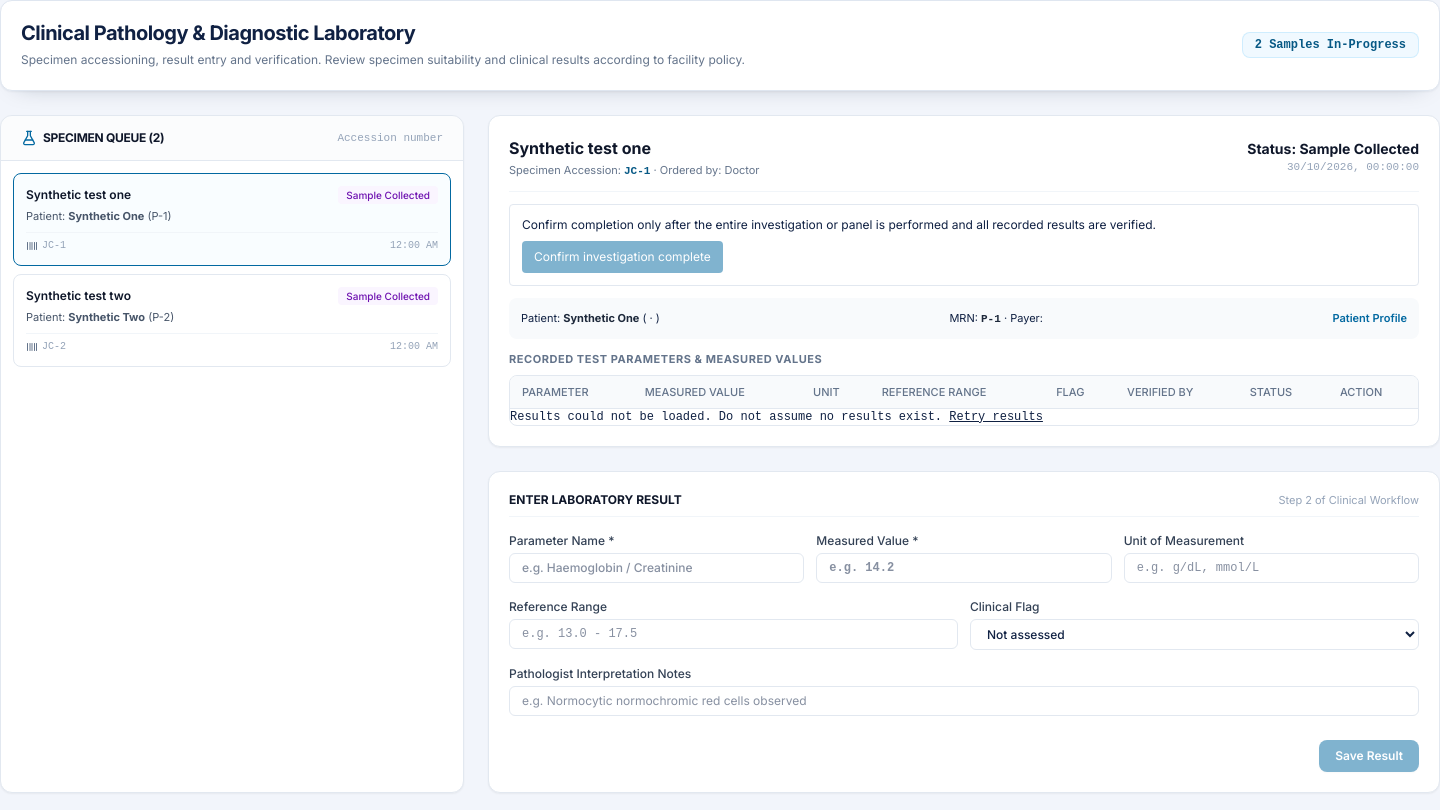
Laboratory worklist and result isolation › shows result loading failure and prevents entry until results can be reviewed
Expected: the message shows "Do not assume no results exist", [510,410,942,424]
Expected: the button "Save Result" is disabled, [1319,740,1419,772]
Click the button "Retry results": (996, 416) [949,408,1043,424]
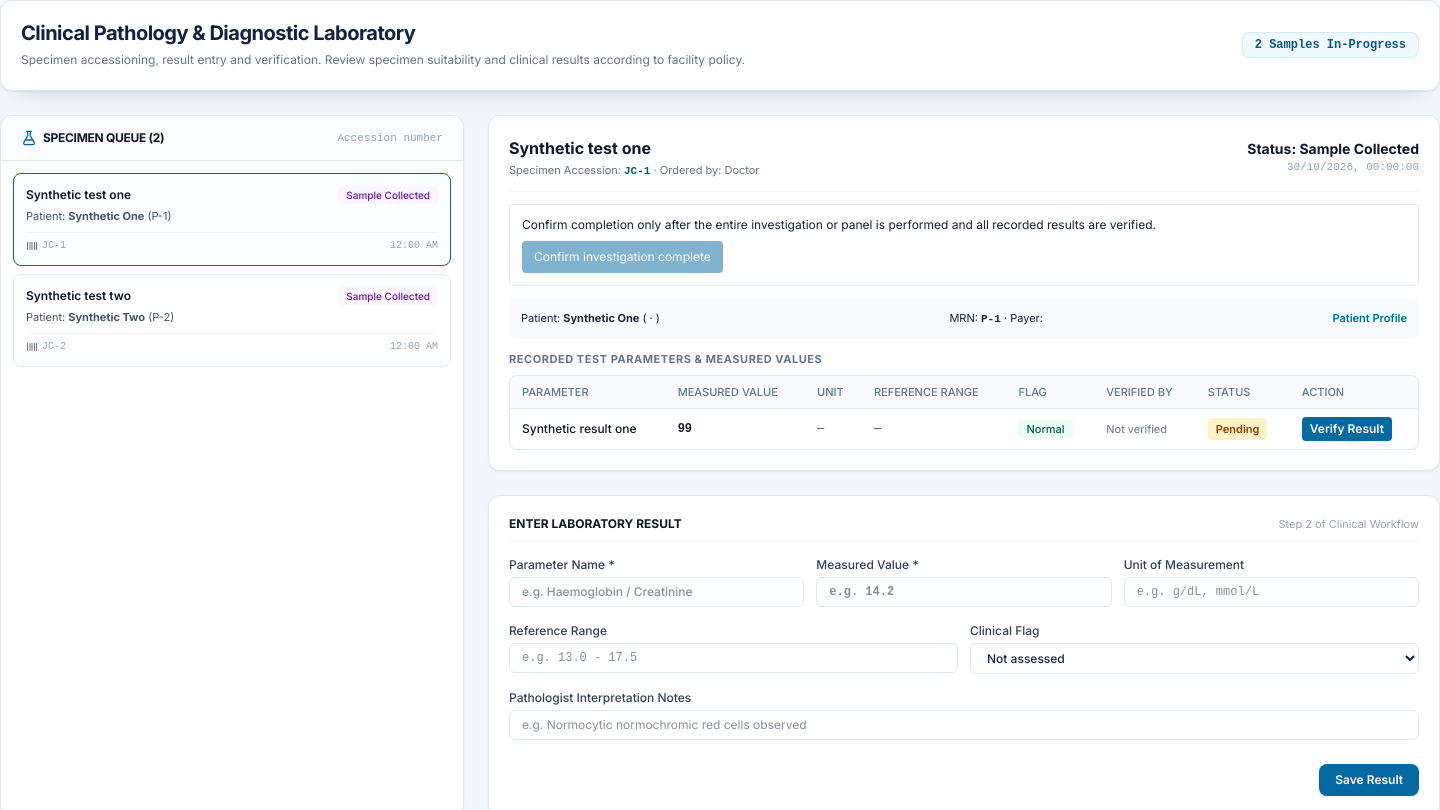
Expected: the text "Synthetic result one" is shown, [510,408,666,448]
